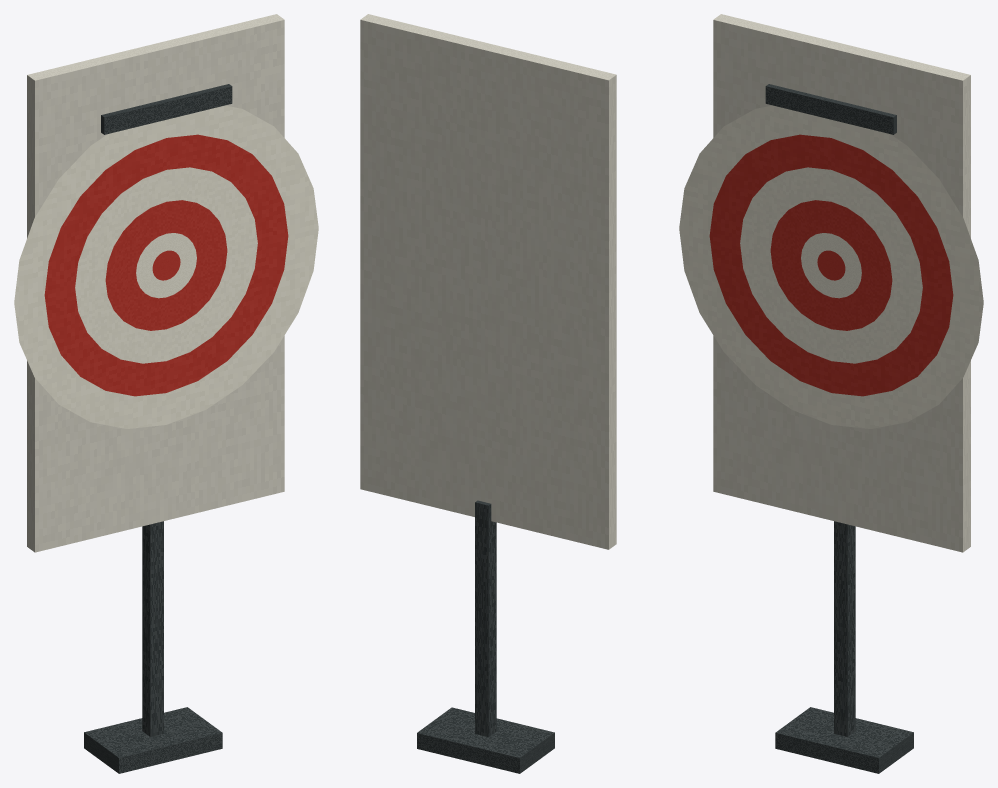
Rendered from target_bullseye.glb.
3 renders of one model, left to right at view 1: azimuth 30°, elevation 25°; view 2: azimuth 150°, elevation 25°; view 3: azimuth 330°, elevation 25°, orthographic.
Visible parts, largest first — view 1: Paper_backing, Ring_25, Ring_20, Ring_15, Ring_10, Foot, Pole, Top_label, Ring_05, Ring_02; view 2: Paper_backing, Foot, Pole; view 3: Paper_backing, Ring_25, Ring_20, Ring_15, Ring_10, Foot, Pole, Top_label, Ring_05, Ring_02.
Boxes of the visible parts, x1,y1,x2,y2 form: Paper_backing: [27, 14, 284, 552]; Ring_25: [14, 105, 318, 428]; Ring_20: [44, 134, 288, 396]; Ring_15: [75, 167, 257, 363]; Ring_10: [105, 200, 227, 330]; Foot: [84, 707, 222, 773]; Pole: [142, 521, 163, 736]; Top_label: [101, 84, 232, 134]; Ring_05: [136, 233, 196, 298]; Ring_02: [152, 250, 180, 280]; Paper_backing: [360, 14, 616, 549]; Foot: [417, 707, 554, 773]; Pole: [475, 500, 496, 737]; Paper_backing: [713, 14, 970, 552]; Ring_25: [679, 105, 983, 428]; Ring_20: [709, 134, 953, 396]; Ring_15: [740, 167, 922, 363]; Ring_10: [770, 200, 892, 330]; Foot: [775, 707, 913, 773]; Pole: [834, 521, 855, 736]; Top_label: [765, 84, 896, 134]; Ring_05: [801, 233, 861, 298]; Ring_02: [817, 250, 845, 280].
Size of the model in its own units: 1 by 2.21 by 0.2.
Materials: 5 (5 with a texture image).
